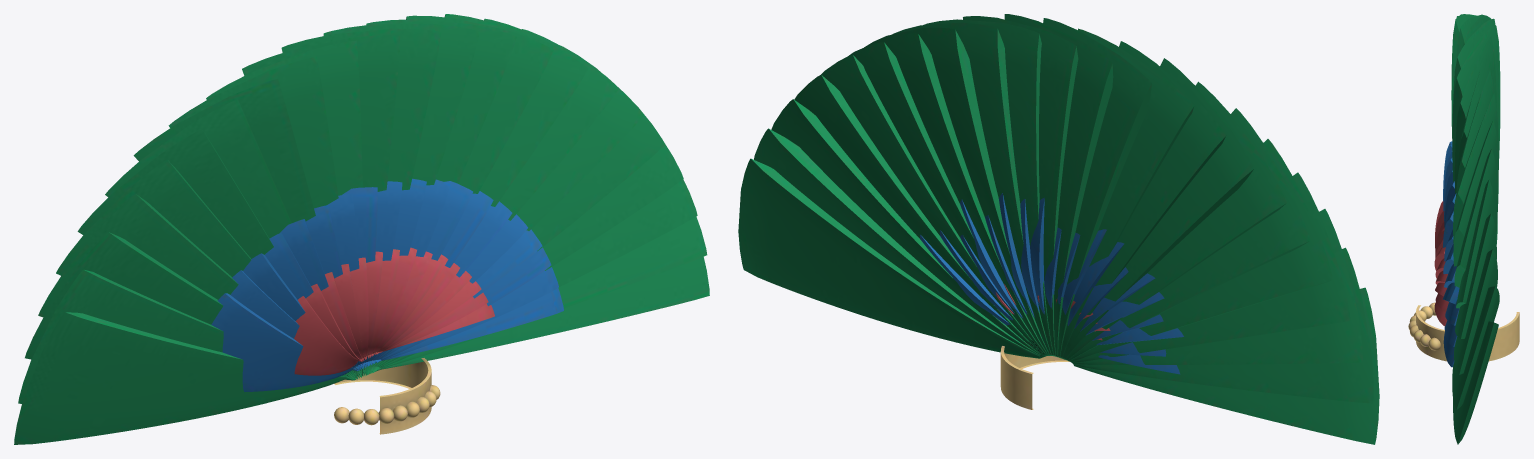
File: feather_headdress.glb
3 views of the same model, side by side, from view 1: azimuth 30°, elevation 25°; view 2: azimuth 150°, elevation 25°; view 3: azimuth 270°, elevation 25° (orthographic). The views are drawn at different scales.
Visible parts, largest first — view 1: feather_headdress; view 2: feather_headdress; view 3: feather_headdress.
Part boxes in pixels (left/top/right/bottom): feather_headdress: left=14, top=14, right=709, bottom=444; feather_headdress: left=738, top=14, right=1379, bottom=444; feather_headdress: left=1408, top=14, right=1519, bottom=444.
Size of the model in its own units: 1.14 by 0.6016 by 0.204.
1 material, 1 textured.
